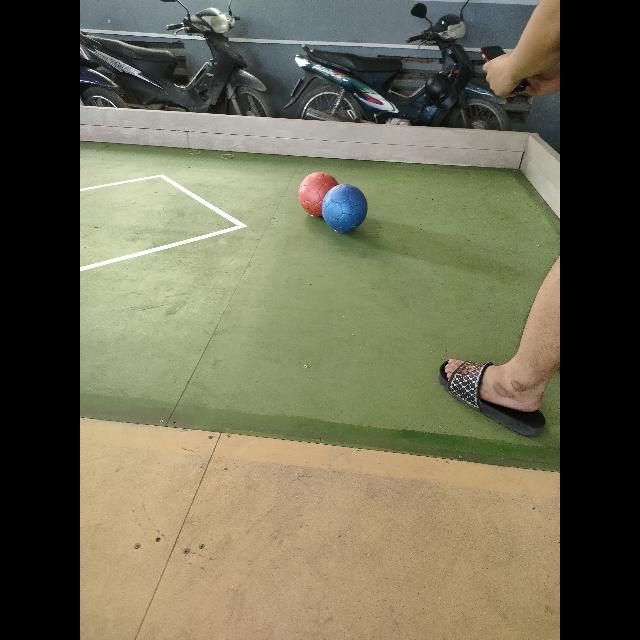B: (321, 184, 368, 232)
R: (299, 172, 338, 218)
